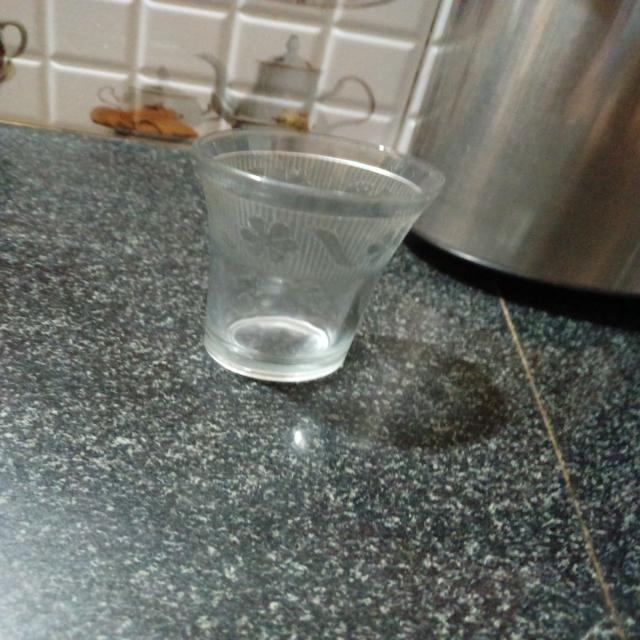Glass: (185, 124, 450, 384)
